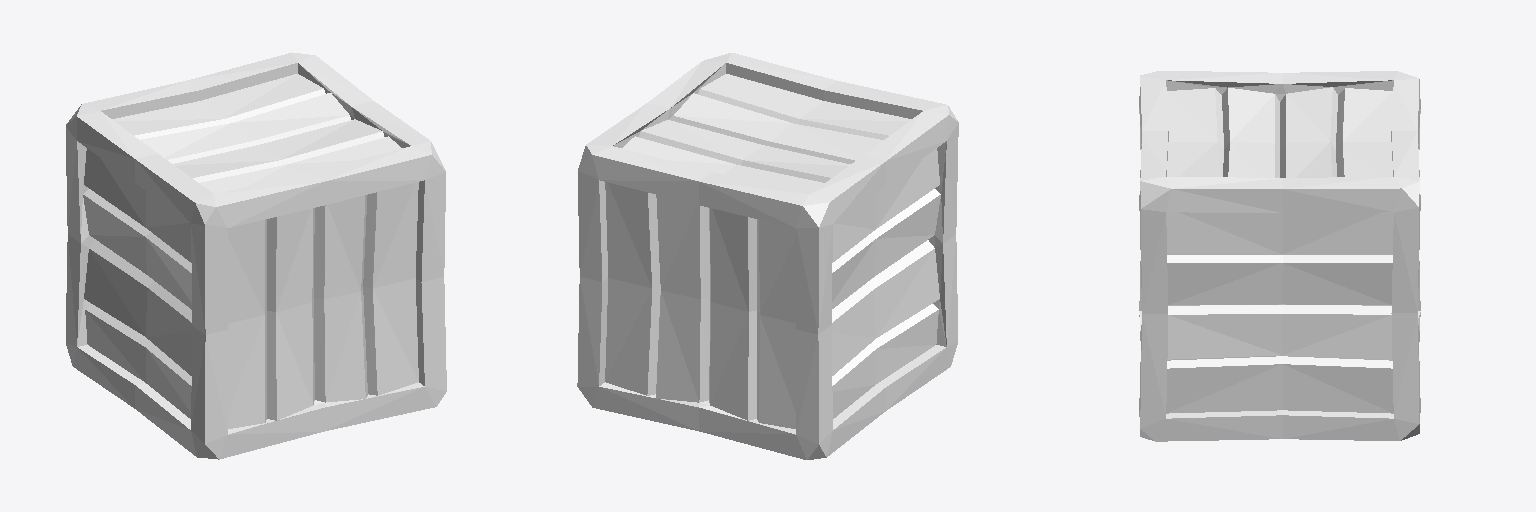
The model's file is Brick.obj.
3 renders of one model, left to right at view 1: azimuth 30°, elevation 25°; view 2: azimuth 150°, elevation 25°; view 3: azimuth 270°, elevation 25°, orthographic.
Visible parts, largest first — view 1: SM_Prop_Crate_01_Mesh; view 2: SM_Prop_Crate_01_Mesh; view 3: SM_Prop_Crate_01_Mesh.
Boxes of the visible parts, x1,y1,x2,y2 form: SM_Prop_Crate_01_Mesh: [66, 52, 446, 459]; SM_Prop_Crate_01_Mesh: [577, 53, 958, 459]; SM_Prop_Crate_01_Mesh: [1139, 71, 1420, 441].
Bounding box in the file's own units: 1.35 × 1.35 × 1.35.